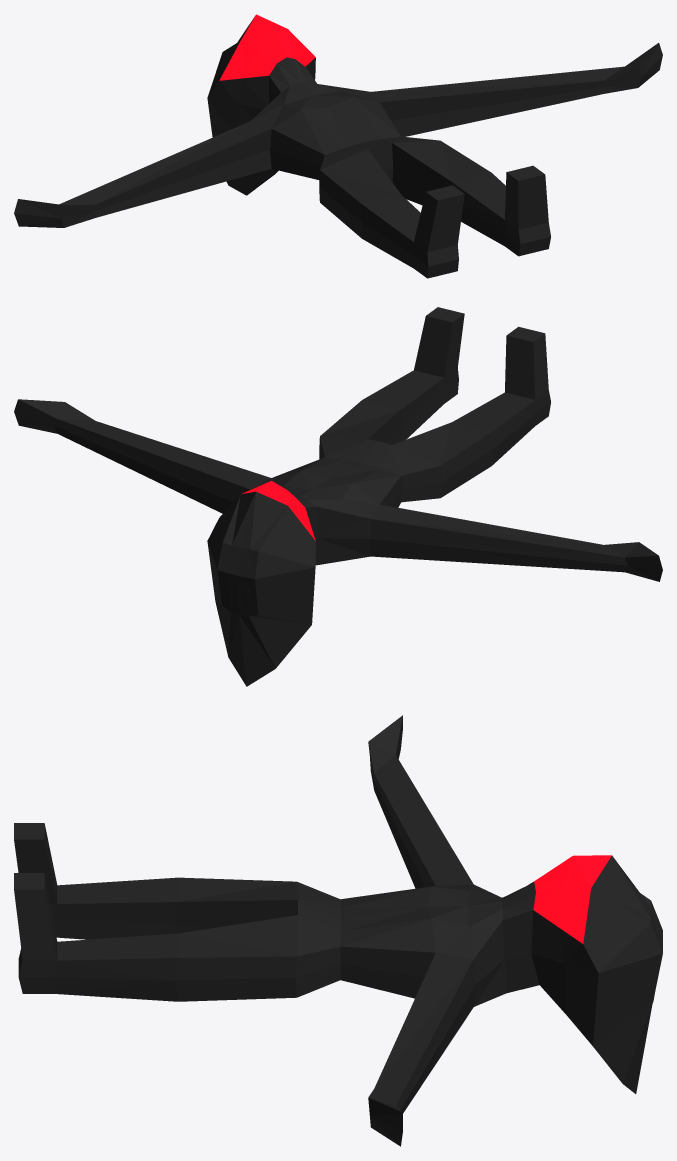
File: Enemy.fbx
3 renders of one model, top to bottom at view 1: azimuth 30°, elevation 25°; view 2: azimuth 150°, elevation 25°; view 3: azimuth 270°, elevation 25°, orthographic. The views are drawn at different scales.
Visible parts, largest first — view 1: Cube; view 2: Cube; view 3: Cube.
Boxes of the visible parts, x1,y1,x2,y2 form: Cube: [14, 14, 662, 278]; Cube: [14, 307, 662, 686]; Cube: [14, 715, 662, 1146].
Bounding box in the file's own units: 147 × 40.72 × 100.
